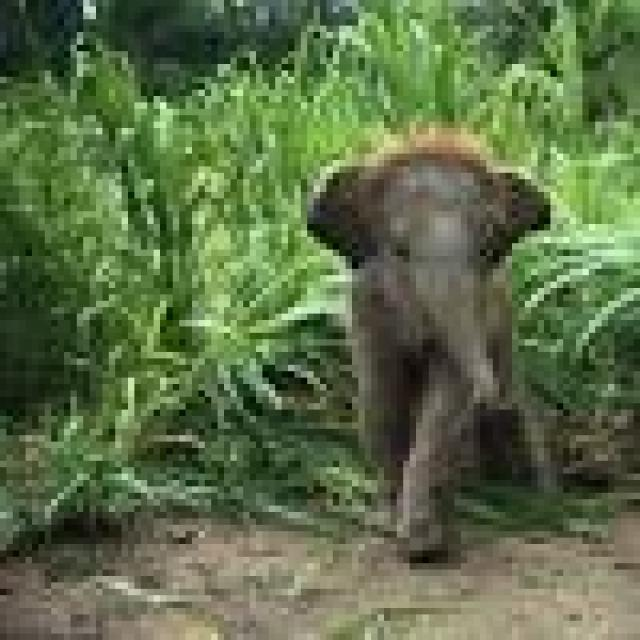Elephant: (294, 128, 557, 563)
